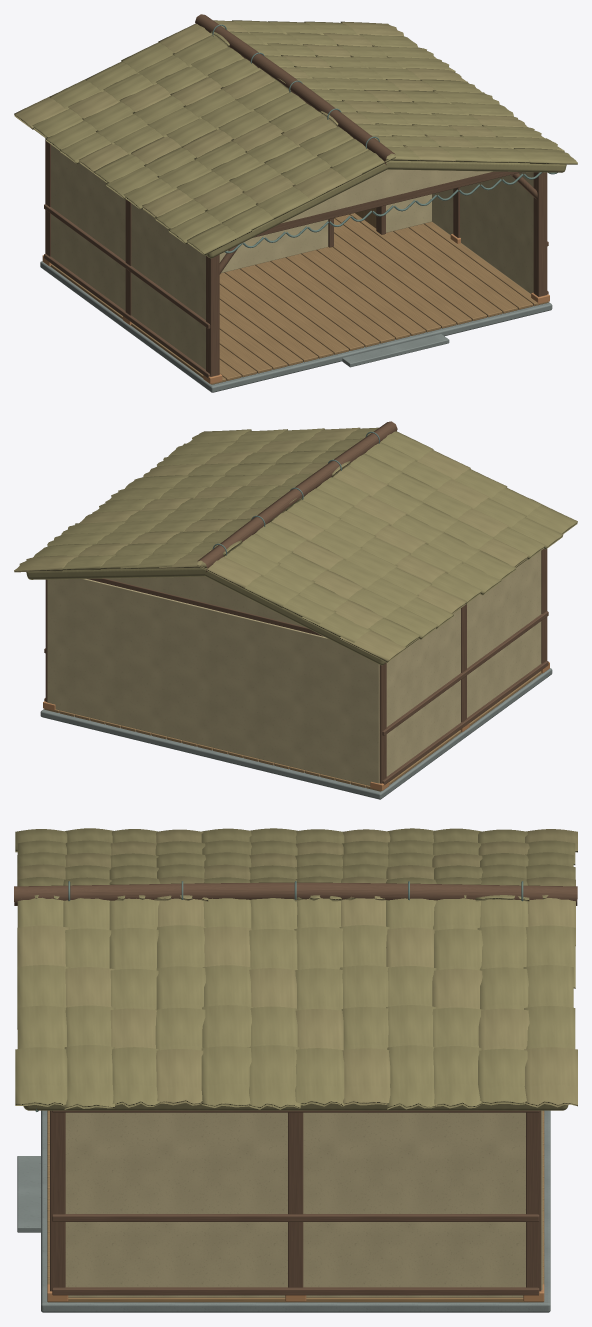
Rendered from bellroot-fen-floodward-marches-reed-market-exchange-a43c3e97__32908.glb.
3 views of the same model, one above another, from view 1: azimuth 30°, elevation 25°; view 2: azimuth 150°, elevation 25°; view 3: azimuth 270°, elevation 25° (orthographic). The views are drawn at different scales.
Parts seen in each view (by area): view 1: reed-market-exchange; view 2: reed-market-exchange; view 3: reed-market-exchange.
Boxes of the visible parts, box(x1,y1,x2,y2) form: reed-market-exchange: box(14, 14, 577, 392); reed-market-exchange: box(14, 421, 577, 799); reed-market-exchange: box(14, 828, 577, 1312).
Size of the model in its own units: 8.03 by 4.2 by 6.97.
8 materials, 6 textured.
